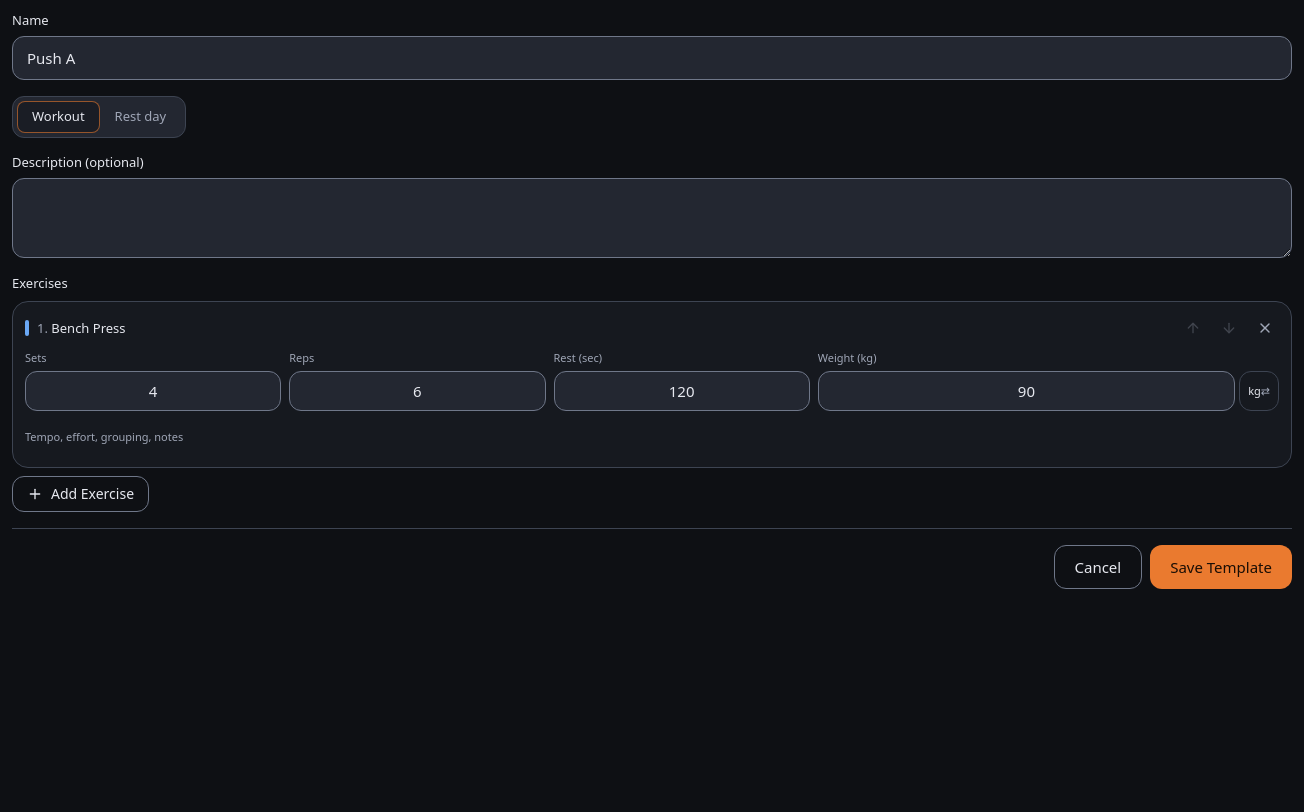
Test: template editor validation › outlines every invalid field and names the problem
Replace the text in the number field labelled "Sets" with "0": (153, 391) x1=25 y1=371 x2=281 y2=411
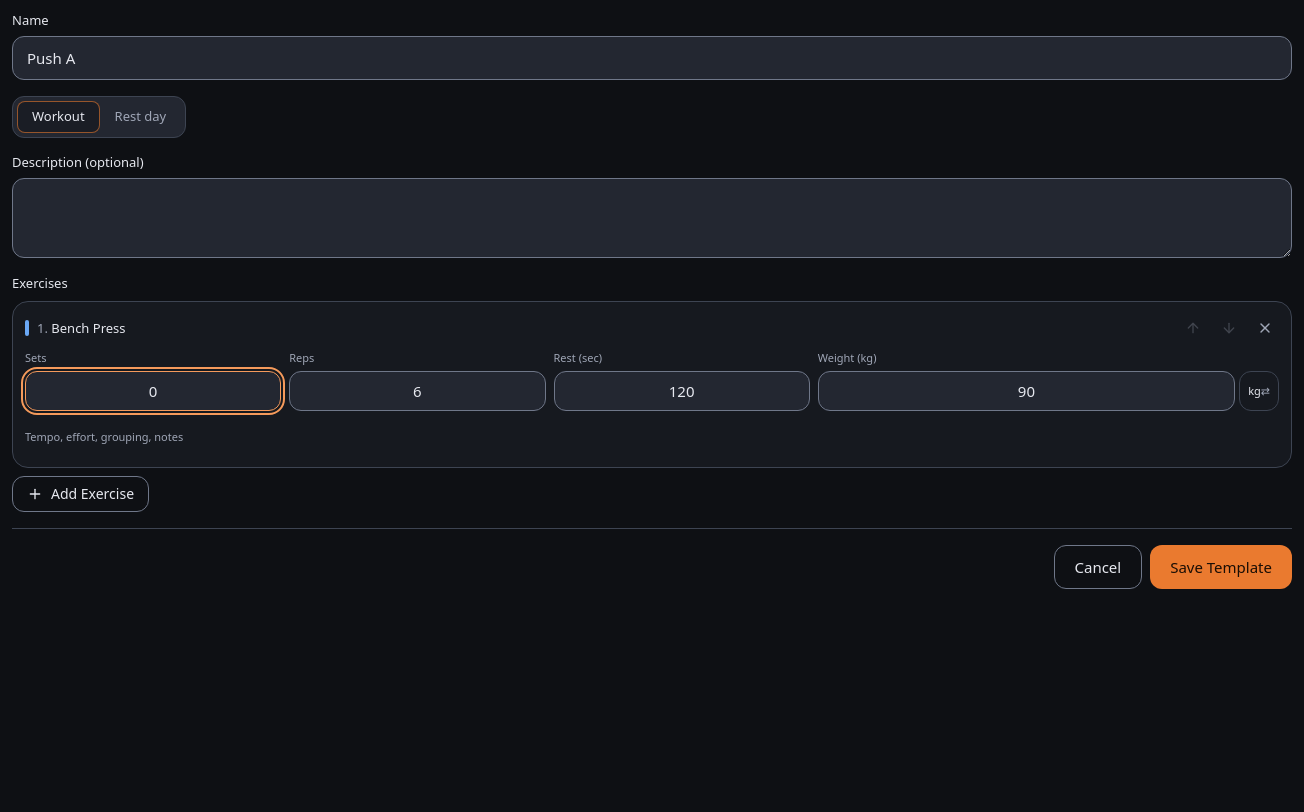
Replace the text in the number field labelled "Reps" with "0": (417, 391) x1=289 y1=371 x2=546 y2=411
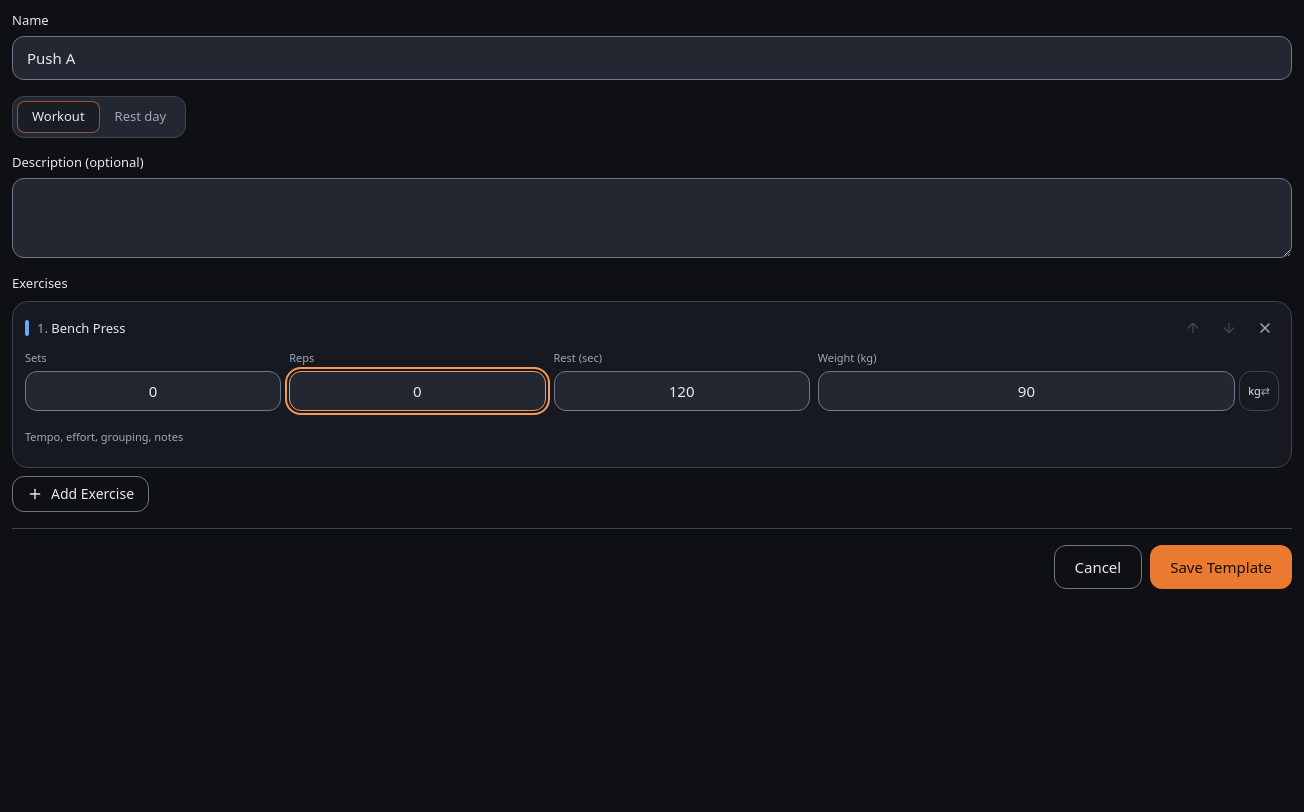
Click the button "Save Template": (1221, 567) x1=1150 y1=545 x2=1292 y2=589
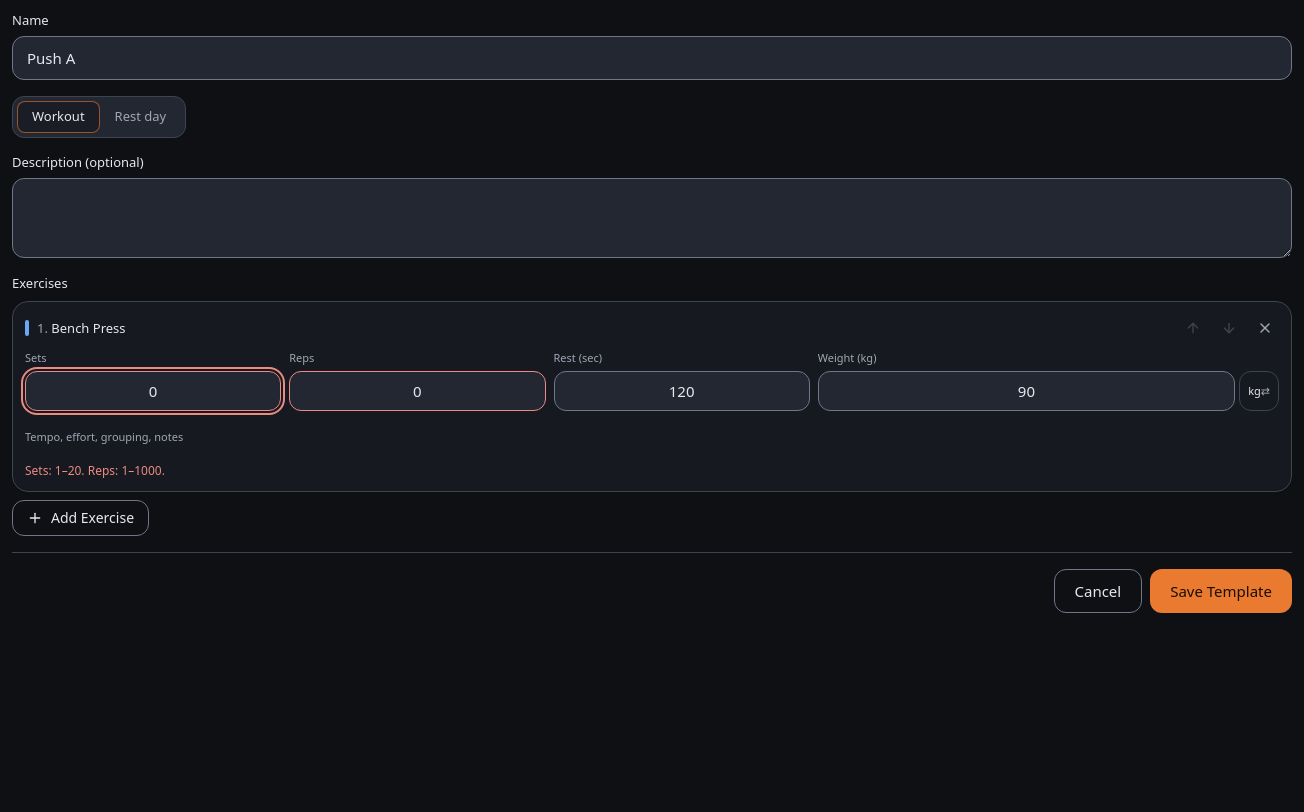
Expected: the text "Sets: 1–20. Reps: 1–1000." is shown, x1=25 y1=462 x2=165 y2=479
